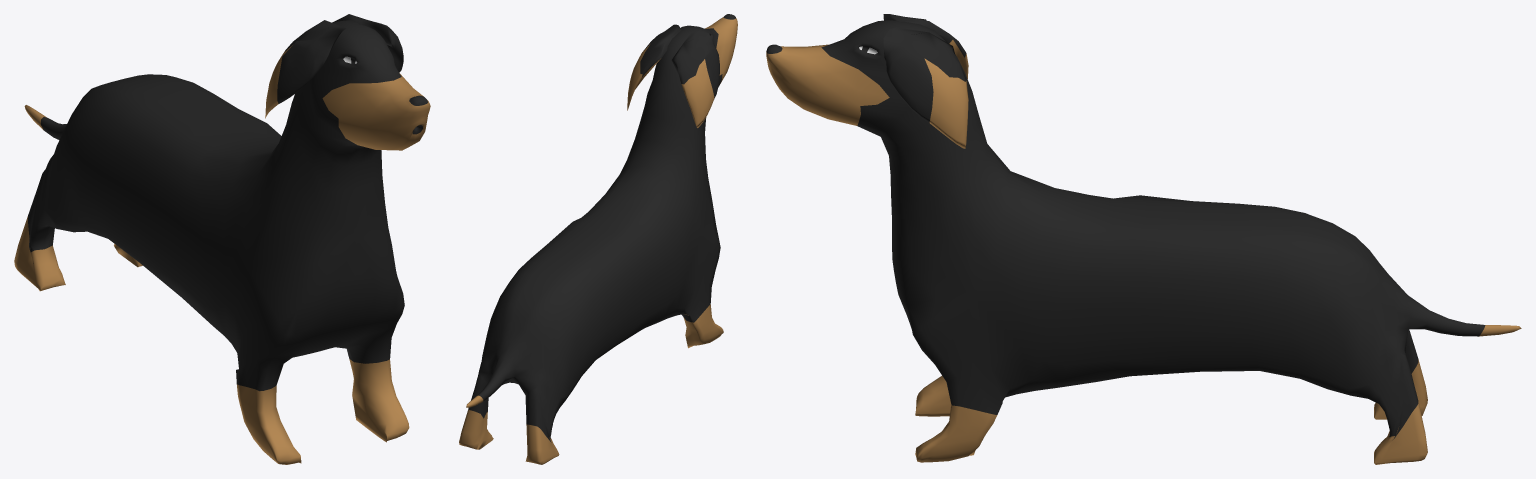
Rendered from dog.fbx.
The picture shows the model from 3 angles, left to right: view 1: azimuth 30°, elevation 25°; view 2: azimuth 150°, elevation 25°; view 3: azimuth 270°, elevation 25°; orthographic projection. The views are drawn at different scales.
Parts seen in each view (by area): view 1: Plane.001; view 2: Plane.001; view 3: Plane.001.
Boxes of the visible parts, x1,y1,x2,y2 form: Plane.001: [14, 14, 430, 464]; Plane.001: [459, 14, 737, 464]; Plane.001: [766, 14, 1521, 464].
Size of the model in its own units: 125 by 390 by 642.
